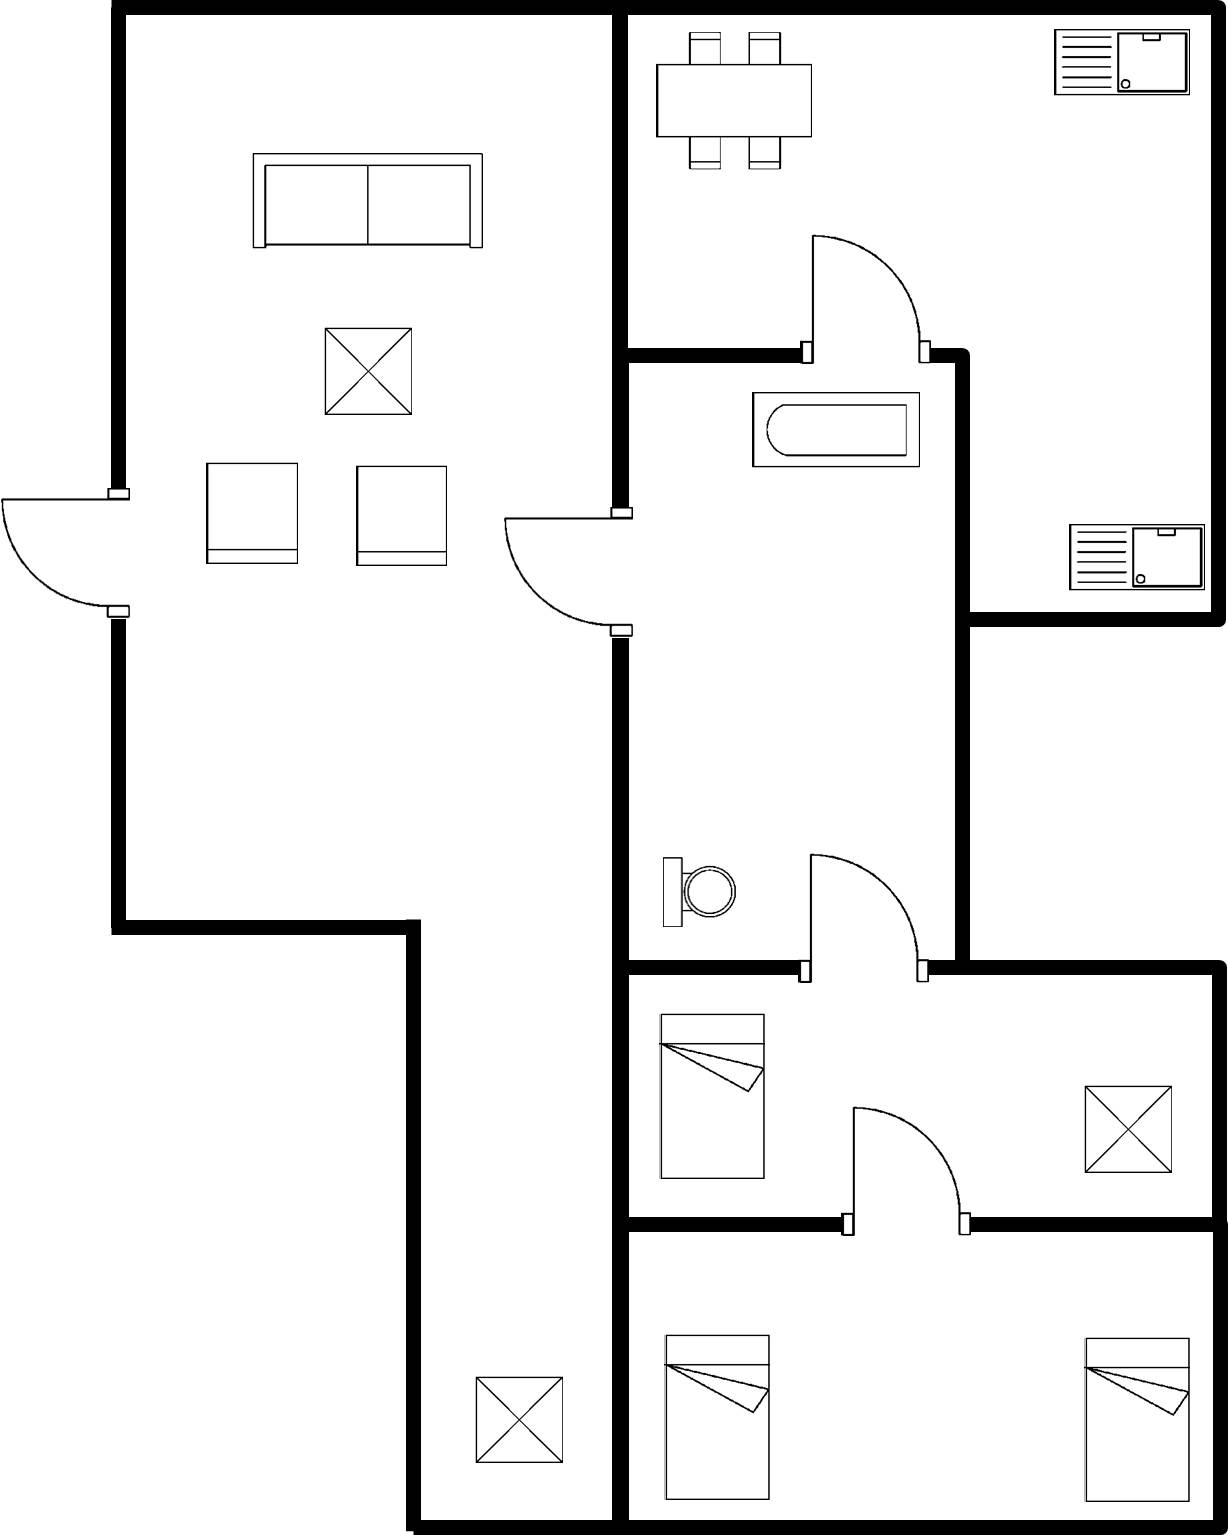bed: (649, 1007, 786, 1193), (653, 1327, 790, 1509), (1074, 1327, 1198, 1512)
coffee_table: (1075, 1076, 1184, 1194), (465, 1364, 575, 1473), (314, 318, 420, 430)
dining_table: (643, 22, 826, 181)
large_sink: (652, 840, 747, 937)
large_sofa: (238, 136, 502, 263)
sink: (1053, 509, 1205, 600), (1046, 21, 1202, 109)
small_sofa: (195, 454, 314, 578), (343, 455, 460, 578)
tub: (738, 379, 932, 478)
